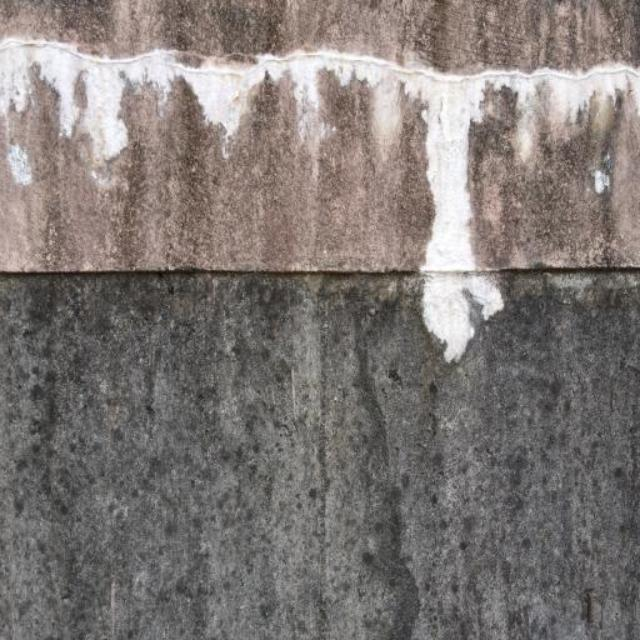D01: (26, 50, 639, 361), (6, 142, 33, 185)
